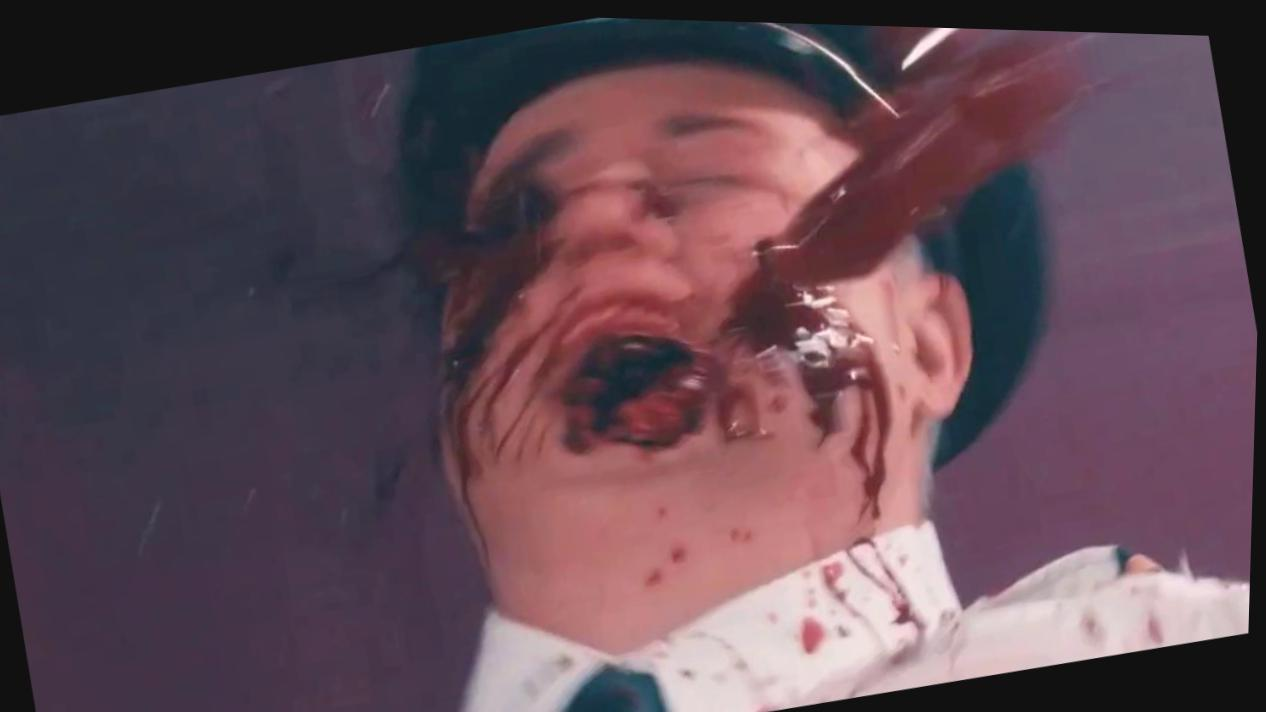Fire: (443, 27, 1086, 527), (471, 519, 965, 712)
